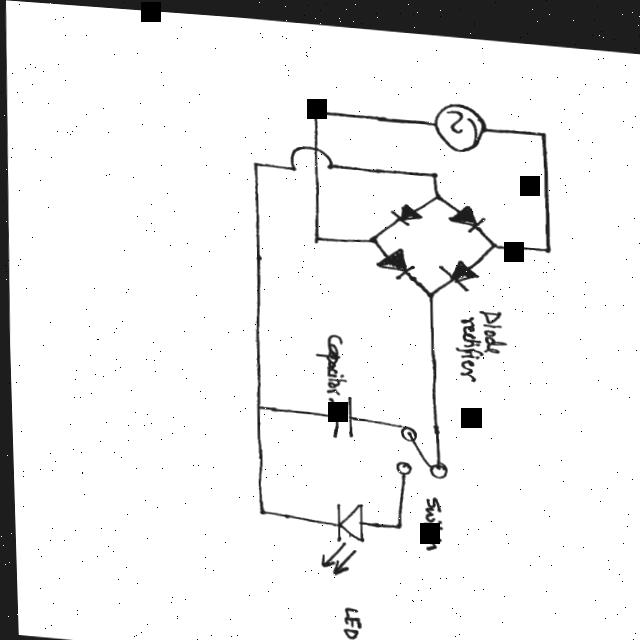capacitor: (326, 388, 354, 432)
crossover: (286, 138, 334, 170)
diode: (313, 491, 365, 572), (434, 250, 479, 285), (375, 238, 413, 273), (445, 195, 486, 225), (386, 195, 422, 221)
junction: (310, 225, 325, 239), (308, 100, 321, 112), (426, 161, 439, 173), (539, 234, 551, 247), (248, 155, 260, 167), (251, 396, 263, 408), (389, 514, 401, 525), (253, 502, 266, 512), (366, 227, 377, 238), (536, 121, 546, 131), (487, 232, 498, 241), (423, 282, 433, 291), (432, 185, 442, 193)
source: (431, 92, 486, 147)
switch: (392, 415, 447, 473)
text: (453, 298, 506, 377), (312, 326, 345, 391), (419, 488, 442, 545), (339, 598, 359, 634)
